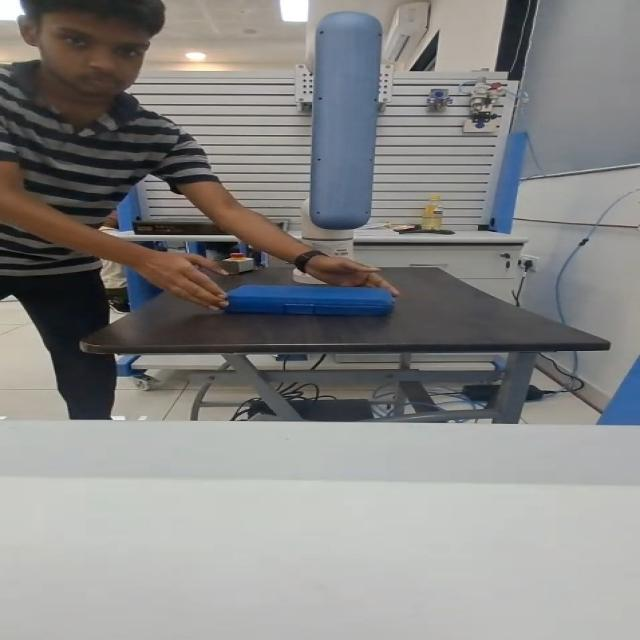top-surface: (229, 286, 381, 299)
